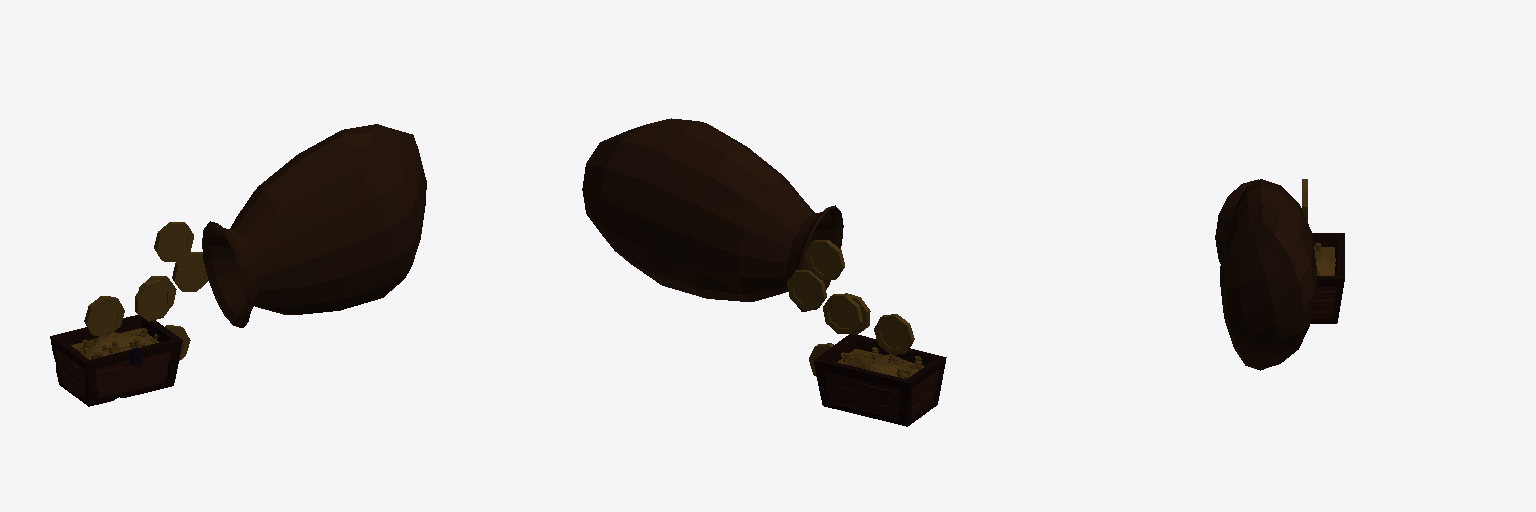
File: Chest_Base_Cube.obj
3 renders of one model, left to right at view 1: azimuth 30°, elevation 25°; view 2: azimuth 150°, elevation 25°; view 3: azimuth 270°, elevation 25°, orthographic.
Visible parts, largest first — view 1: Bag_Coins_Cylinder.001, Chest_Base_Cube_Chest_Base_Cube.001; view 2: Bag_Coins_Cylinder.001, Chest_Base_Cube_Chest_Base_Cube.001; view 3: Bag_Coins_Cylinder.001, Chest_Base_Cube_Chest_Base_Cube.001.
Part boxes in pixels (x1,y1,x2,y2): Bag_Coins_Cylinder.001: (84, 124, 426, 360); Chest_Base_Cube_Chest_Base_Cube.001: (50, 315, 182, 406); Bag_Coins_Cylinder.001: (582, 118, 914, 376); Chest_Base_Cube_Chest_Base_Cube.001: (814, 334, 946, 426); Bag_Coins_Cylinder.001: (1215, 179, 1316, 370); Chest_Base_Cube_Chest_Base_Cube.001: (1311, 233, 1344, 323).
Size of the model in its own units: 4.14 by 2.48 by 1.34.